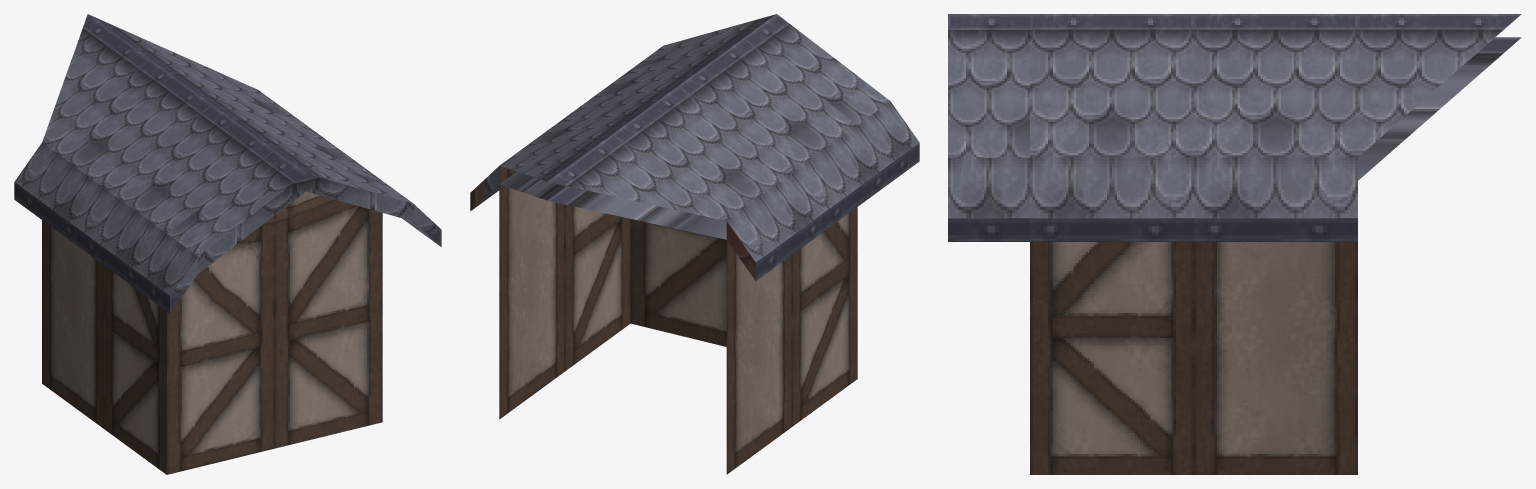
File: roof_blue_dormer_window.glb
3 renders of one model, left to right at view 1: azimuth 30°, elevation 25°; view 2: azimuth 150°, elevation 25°; view 3: azimuth 270°, elevation 25°, orthographic. The views are drawn at different scales.
Visible parts, largest first — view 1: roof_blue_dormer_window; view 2: roof_blue_dormer_window; view 3: roof_blue_dormer_window.
Boxes of the visible parts, left/top/right/bottom form: roof_blue_dormer_window: left=14, top=14, right=441, bottom=474; roof_blue_dormer_window: left=470, top=14, right=919, bottom=474; roof_blue_dormer_window: left=948, top=14, right=1521, bottom=474.
Size of the model in its own units: 1.85 by 1.93 by 2.57.
Materials: 1 (1 with a texture image).
